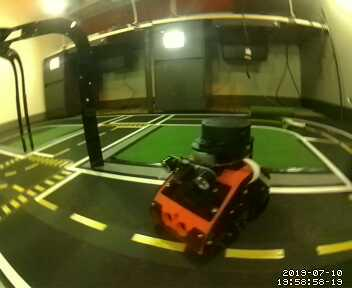pheeno: (151, 114, 275, 263)
